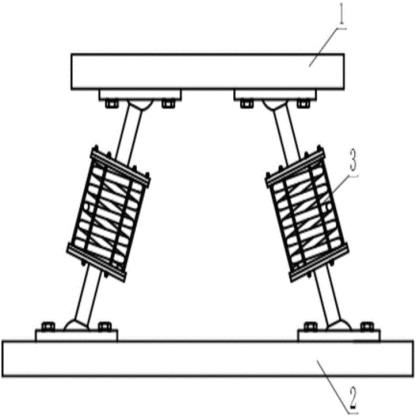FOD: (268, 158, 346, 270)
